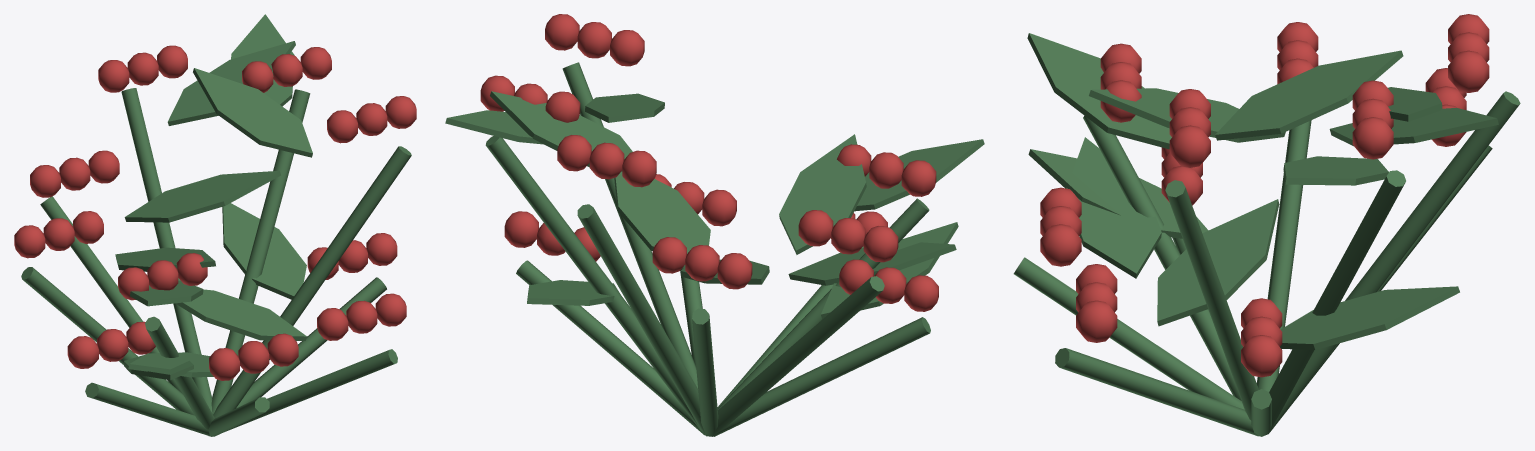
The model's file is almanac-gardens-holly-bush-39c702dd__22063.glb.
The picture shows the model from 3 angles, left to right: view 1: azimuth 30°, elevation 25°; view 2: azimuth 150°, elevation 25°; view 3: azimuth 270°, elevation 25°; orthographic projection. The views are drawn at different scales.
Parts seen in each view (by area): view 1: holly-bush-leaf, holly-bush-red; view 2: holly-bush-leaf, holly-bush-red; view 3: holly-bush-leaf, holly-bush-red.
Boxes of the visible parts, x1,y1,x2,y2 form: holly-bush-leaf: (21, 14, 411, 436); holly-bush-red: (14, 45, 416, 380); holly-bush-leaf: (445, 62, 984, 436); holly-bush-red: (480, 14, 938, 311); holly-bush-leaf: (1013, 33, 1520, 436); holly-bush-red: (1040, 14, 1489, 377).
Bounding box in the file's own units: 0.6239 × 0.5204 × 0.5854.
